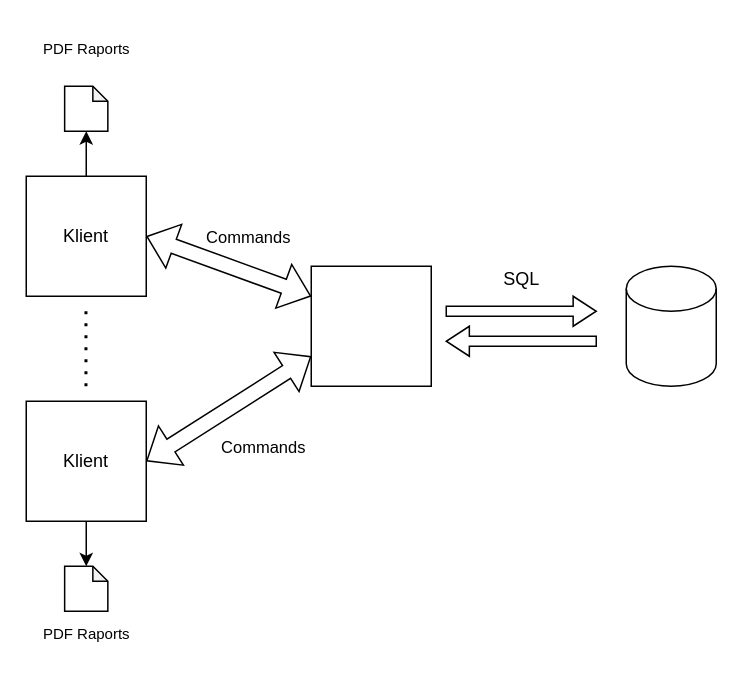
Some shapes in this 743 by 681 pixel diagram are drawn without their labels. Each missing label, with the centre of its shape:
Serwer: pixel 370 325
SQL Database: pixel 670 325
